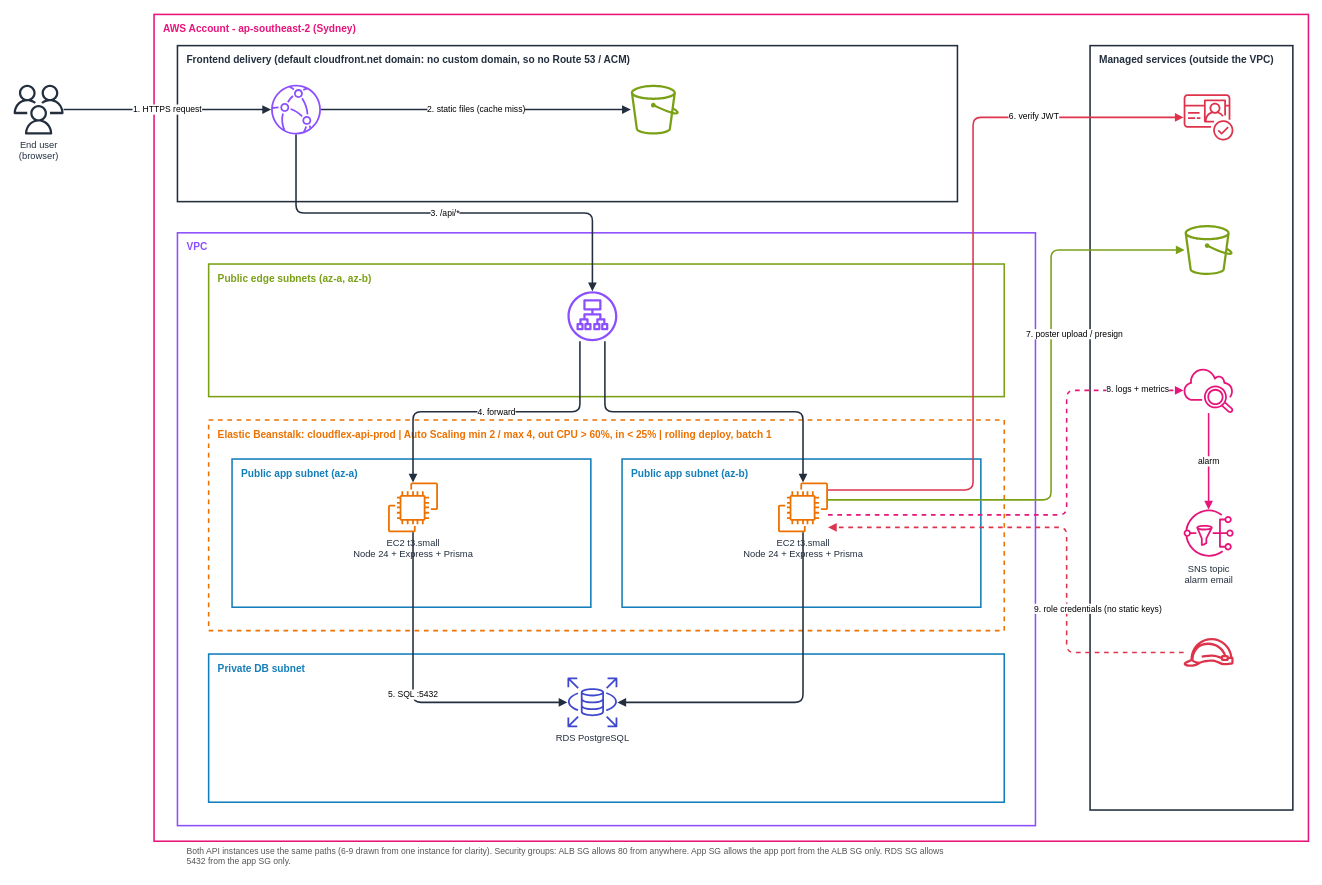
Some shapes in this 1322 by 885 pixel diagram are drawn without their labels. The centre of each missing label's shape, as x and y in pixels:
Application Load Balancer HTTP :80, health check /health: point (592, 316)
CloudFront distribution HTTPS, /api/* to ALB origin: point (296, 109)
CloudWatch Logs alarms: 5xx, unhealthy hosts, CPU: point (1208, 390)
Cognito user pool sign-in, JWKS: point (1208, 117)
IAM instance profile scoped S3 + Cognito: point (1208, 652)
S3 - poster bucket private, presigned URLs: point (1208, 250)
S3 - React client private, CloudFront OAC: point (654, 109)
